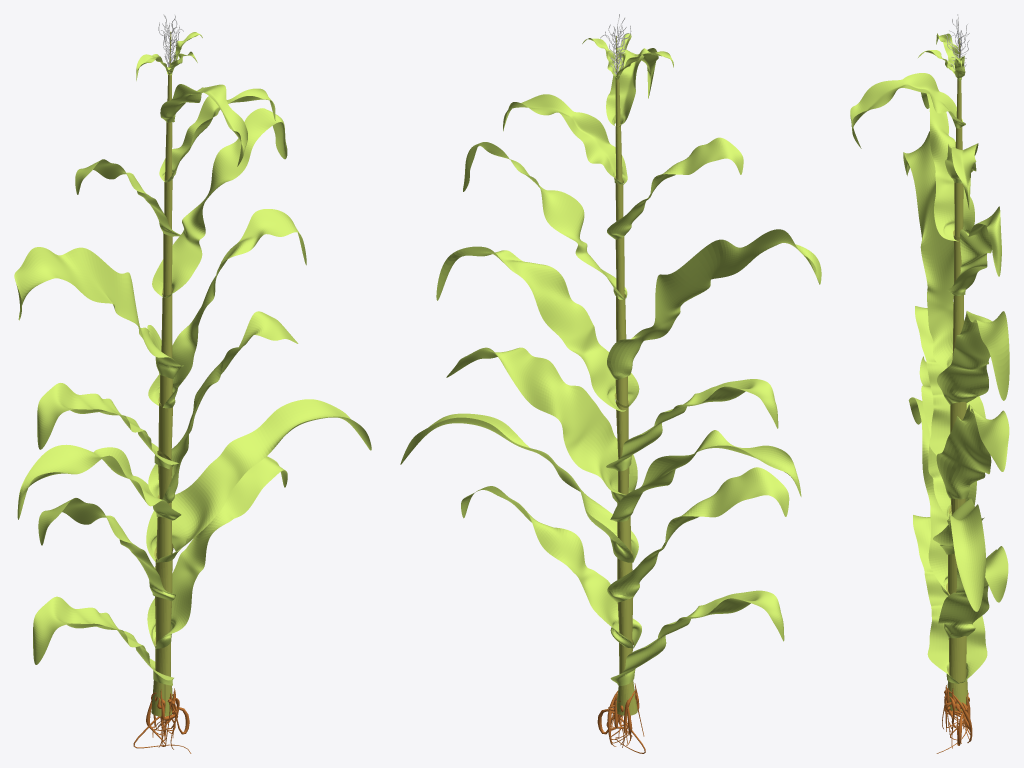
Rendered from corn_plant.fbx.
3 views of the same model, side by side, from view 1: azimuth 30°, elevation 25°; view 2: azimuth 150°, elevation 25°; view 3: azimuth 270°, elevation 25° (orthographic).
Visible parts, largest first — view 1: Leaf(4), Cylinder, Leaf(9), Leaf(2), Leaf(10), Leaf(8), Leaf(5), Leaf(1), Leaf(7), Leaf(6), Leaf(3), Leaf(13) (+3 smaller); view 2: Leaf(6), Leaf(9), Leaf(8), Cylinder, Leaf(3), Leaf(2), Leaf(4), Leaf(5), Leaf(1), Leaf(10), Leaf(7), Leaf(12) (+3 smaller); view 3: Leaf(9), Leaf(8), Leaf(6), Cylinder, Leaf(1), Leaf(4), Leaf(11), Leaf(2), Leaf(10), Leaf(7), Leaf(13), Leaf(3) (+4 smaller).
Part boxes in pixels (bbox=[...]): Leaf(4): bbox=[146, 399, 371, 562]; Cylinder: bbox=[151, 31, 173, 716]; Leaf(9): bbox=[14, 247, 183, 378]; Leaf(2): bbox=[147, 456, 287, 648]; Leaf(10): bbox=[152, 108, 287, 297]; Leaf(8): bbox=[148, 209, 306, 408]; Leaf(5): bbox=[17, 444, 181, 520]; Leaf(1): bbox=[33, 596, 173, 685]; Leaf(7): bbox=[37, 383, 178, 469]; Leaf(6): bbox=[148, 311, 298, 503]; Leaf(3): bbox=[38, 498, 175, 601]; Leaf(13): bbox=[160, 84, 247, 166]; Leaf(6): bbox=[446, 347, 637, 503]; Leaf(9): bbox=[607, 229, 821, 379]; Leaf(8): bbox=[436, 246, 639, 411]; Cylinder: bbox=[614, 36, 637, 715]; Leaf(3): bbox=[607, 467, 789, 602]; Leaf(2): bbox=[461, 486, 641, 648]; Leaf(4): bbox=[400, 413, 638, 562]; Leaf(5): bbox=[610, 430, 801, 521]; Leaf(1): bbox=[610, 590, 784, 685]; Leaf(10): bbox=[463, 142, 627, 299]; Leaf(7): bbox=[606, 379, 778, 471]; Leaf(12): bbox=[503, 94, 627, 184]; Leaf(9): bbox=[903, 131, 953, 368]; Leaf(8): bbox=[937, 311, 1009, 405]; Leaf(6): bbox=[936, 404, 1009, 499]; Cylinder: bbox=[946, 38, 968, 710]; Leaf(1): bbox=[913, 515, 987, 683]; Leaf(4): bbox=[933, 498, 985, 611]; Leaf(11): bbox=[921, 92, 974, 241]; Leaf(2): bbox=[938, 546, 1008, 638]; Leaf(10): bbox=[946, 206, 1001, 295]; Leaf(7): bbox=[915, 302, 985, 455]; Leaf(13): bbox=[850, 73, 965, 148]; Leaf(3): bbox=[908, 397, 949, 595].
Size of the model in its own units: 444 by 806 by 159.
